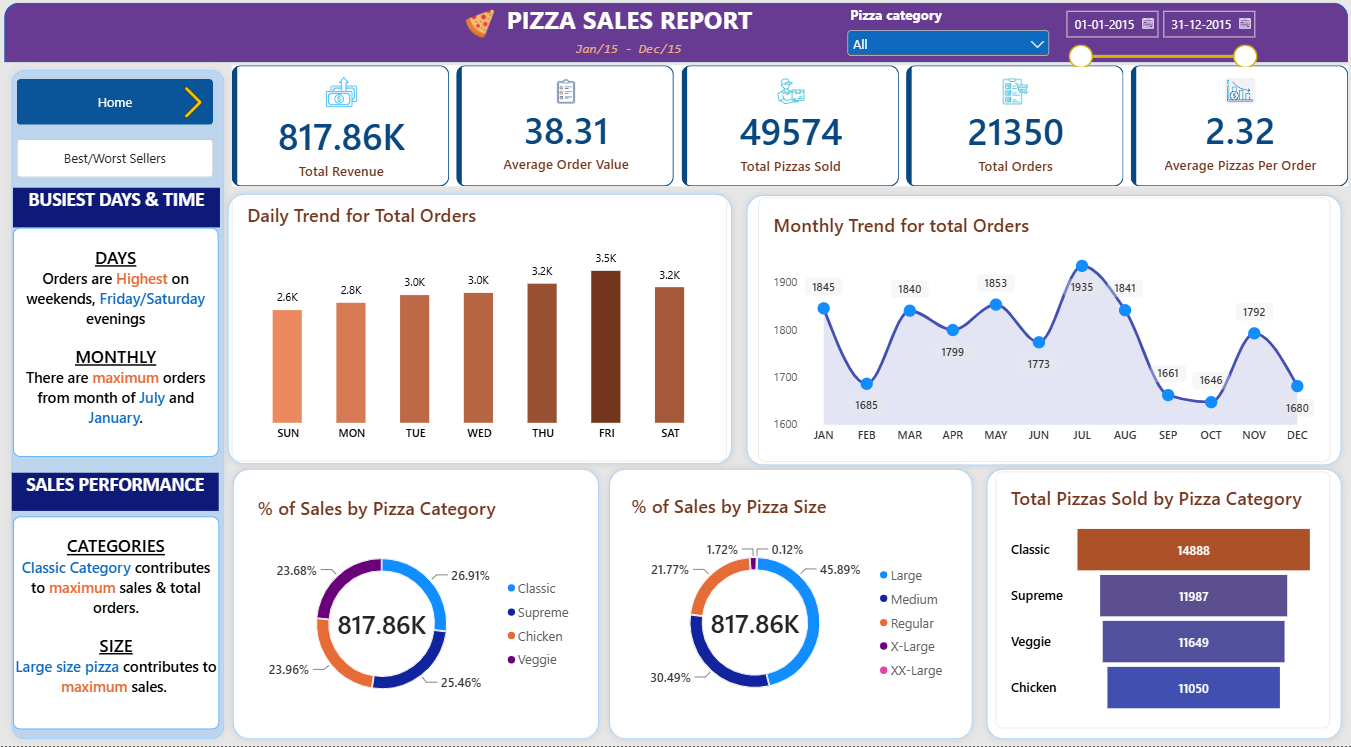

What the dashboard file says about the page in this screenshot:
{"tool":"powerbi","page":{"name":"Home","canvas":[1500,820],"ordinal":0},"visuals":[{"type":"shape","box":[18.1,9.7,1465,65],"z":0},{"type":"cardVisual","fields":{"Data":["pizza_db pizza_sales.Total Revenue","pizza_db pizza_sales.Average Order Value","pizza_db pizza_sales.Total Pizzas Sold","pizza_db pizza_sales.Total Orders","pizza_db pizza_sales.Average Pizzas Per Order"]},"box":[266,78,1217.2,132.3],"z":1000},{"type":"textbox","box":[530.6,9.7,338.4,52.9],"z":2000},{"type":"shape","box":[18.1,75.2,247.9,745.1],"z":3000},{"type":"textbox","box":[640.6,48.7,121.2,29.2],"z":4000},{"type":"image","box":[484.6,16.7,103.1,32],"z":5000},{"type":"shape","box":[253.5,210.3,565.4,310.6],"z":6000},{"type":"columnChart","title":"Daily Trend for Total Orders","fields":{"Category":["pizza_db pizza_sales.Order Day"],"Y":["pizza_db pizza_sales.Total Orders"]},"box":[266,211.7,540.4,298],"z":7000},{"type":"shape","box":[818.9,211.7,664.3,310.6],"z":8000},{"type":"areaChart","title":"Monthly Trend for total Orders","fields":{"Category":["pizza_db pizza_sales.Order Month"],"Y":["pizza_db pizza_sales.Total Orders"]},"box":[839.8,221.4,623.9,288.3],"z":9000},{"type":"shape","box":[259,509.7,415,310.6],"z":10000},{"type":"shape","box":[668.5,509.7,412.2,310.6],"z":11000},{"type":"shape","box":[1080.7,509.7,403,310.6],"z":12000},{"type":"donutChart","title":"% of Sales by Pizza Category","fields":{"Category":["pizza_db pizza_sales.pizza_category"],"Y":["pizza_db pizza_sales.Total Revenue"]},"box":[278.5,532,380.2,268.8],"z":13000},{"type":"donutChart","title":"% of Sales by Pizza Size","fields":{"Category":["pizza_db pizza_sales.pizza_size"],"Y":["pizza_db pizza_sales.Total Revenue"]},"box":[685.2,530.6,380.2,268.8],"z":14000},{"type":"funnel","title":"Total Pizzas Sold by Pizza Category","fields":{"Category":["pizza_db pizza_sales.pizza_category"],"Y":["pizza_db pizza_sales.Total Pizzas Sold"]},"box":[1098.8,520.9,364.9,279.9],"z":15000},{"type":"textbox","box":[27.9,211.7,225.6,43.2],"z":16000},{"type":"textbox","box":[27.9,254.9,224.2,249.3],"z":17000},{"type":"textbox","box":[27.9,569.6,231.2,231.2],"z":18000},{"type":"textbox","box":[26.5,522.3,225.6,41.8],"z":19000},{"type":"slicer","fields":{"Values":["pizza_db pizza_sales.pizza_category"]},"box":[931.7,12.5,229.8,58.5],"z":20000},{"type":"slicer","fields":{"Values":["pizza_db pizza_sales.order_date"]},"box":[1168.1,13,218.8,65.2],"z":21000},{"type":"pageNavigator","box":[31.9,92.8,214.5,50.7],"z":21001},{"type":"pageNavigator","box":[31.9,158,214.5,42],"z":21002},{"type":"image","box":[182.6,101.4,82.6,34.8],"z":21003}]}

Visuals, with their boxes in screenshot pixels (x1, y1, x2, y2), scaled from the page's 1500x820 canvas onto the 1351x747 screenshot:
shape: 16/9/1336/68
cardVisual - pizza_db pizza_sales.Total Revenue x pizza_db pizza_sales.Average Order Value: 240/71/1336/192
textbox: 478/9/783/57
shape: 16/69/240/746
textbox: 577/44/686/71
image: 436/15/529/44
shape: 228/192/738/475
"Daily Trend for Total Orders" columnChart: 240/193/726/464
shape: 738/193/1336/476
"Monthly Trend for total Orders" areaChart: 756/202/1318/464
shape: 233/464/607/746
shape: 602/464/973/746
shape: 973/464/1336/746
"% of Sales by Pizza Category" donutChart: 251/485/593/730
"% of Sales by Pizza Size" donutChart: 617/483/960/728
"Total Pizzas Sold by Pizza Category" funnel: 990/475/1318/730
textbox: 25/193/228/232
textbox: 25/232/227/459
textbox: 25/519/233/730
textbox: 24/476/227/514
slicer - pizza_db pizza_sales.pizza_category: 839/11/1046/65
slicer - pizza_db pizza_sales.order_date: 1052/12/1249/71
pageNavigator: 29/85/222/131
pageNavigator: 29/144/222/182
image: 164/92/239/124
